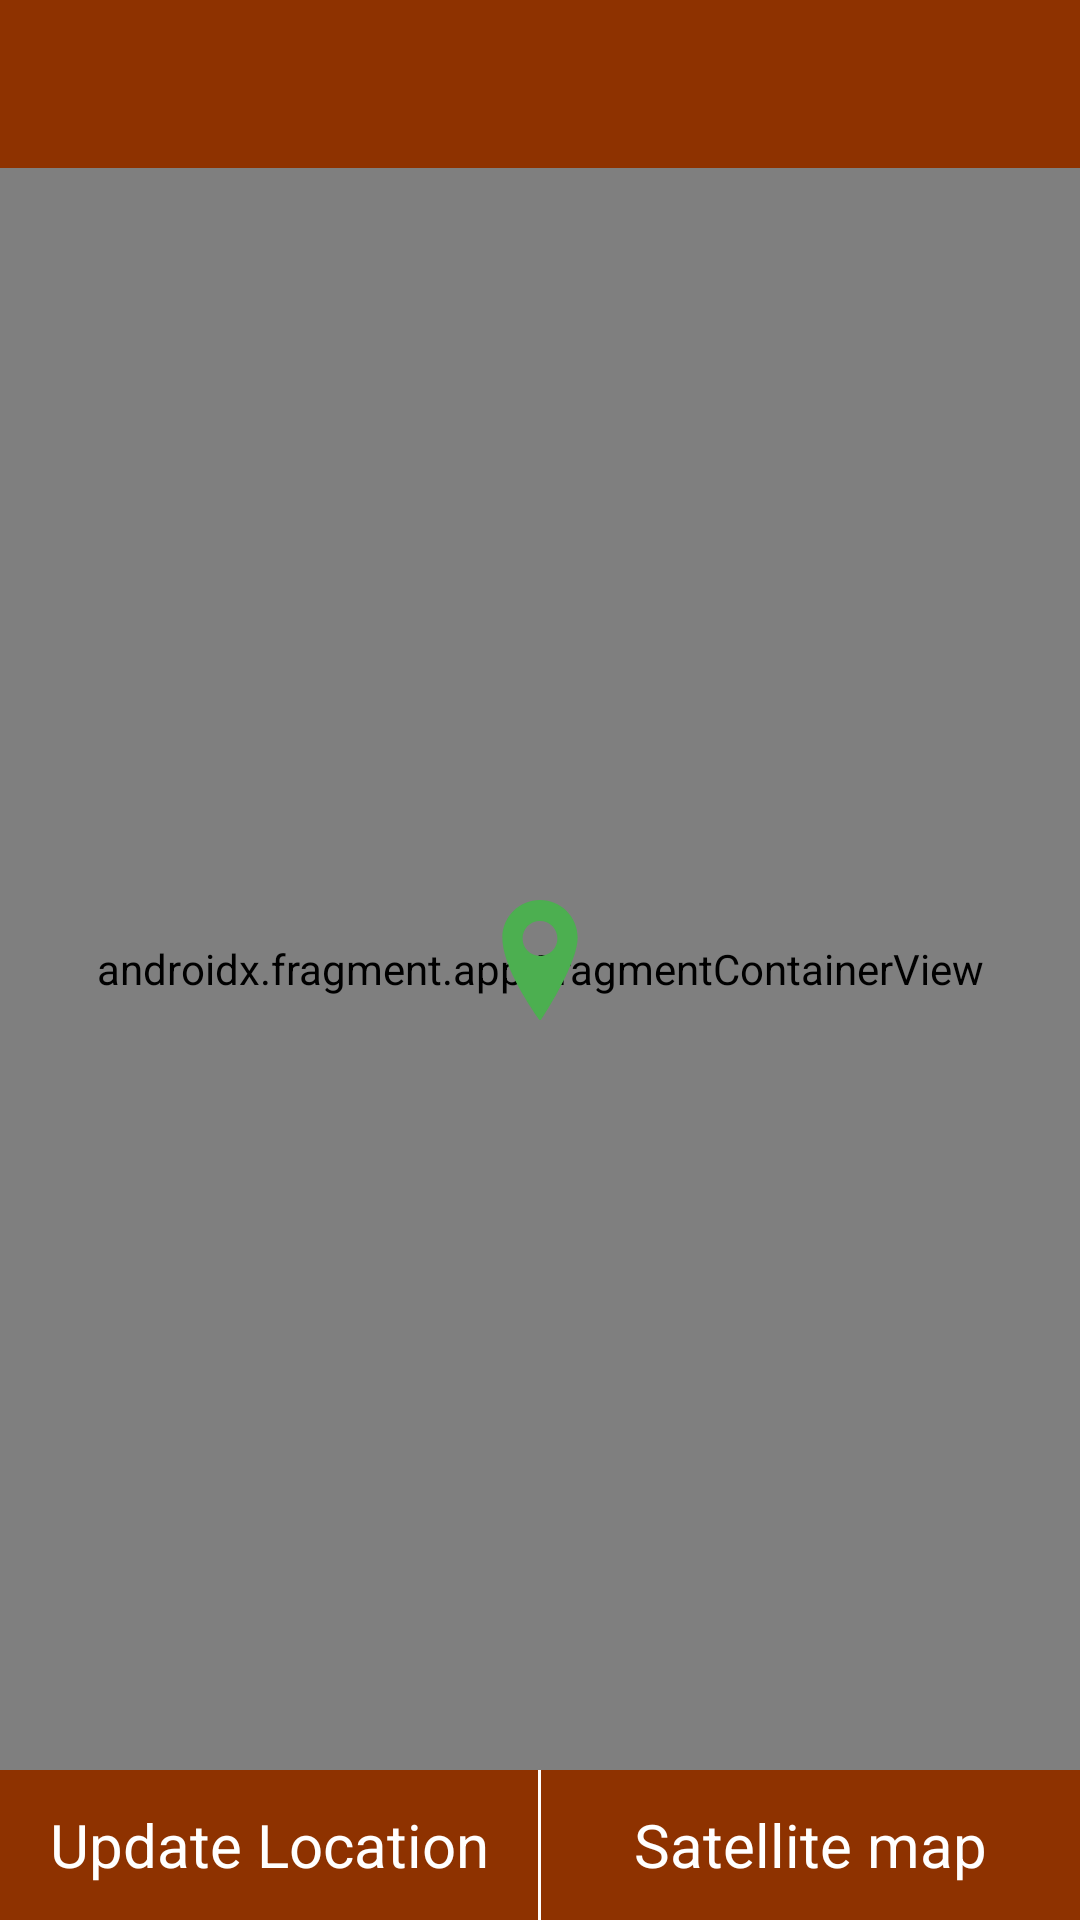

Where to tap for icons on this 1080x1920 app screen, as (x,y):
location pin: (535,960)
